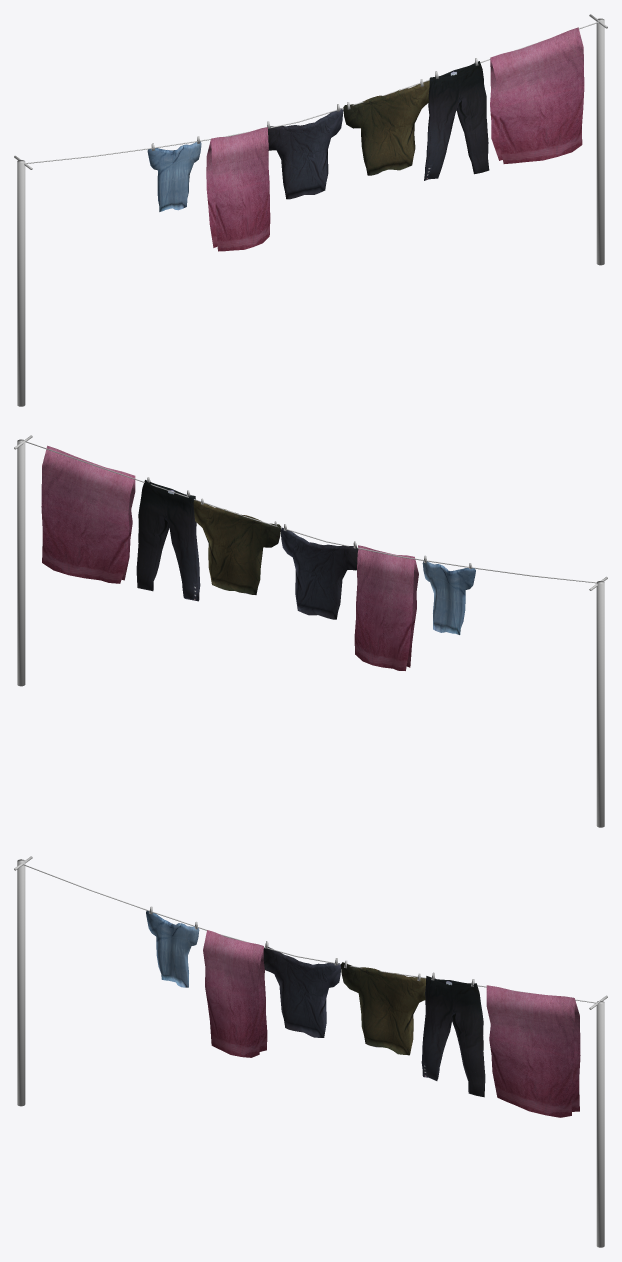
File: clothesline.obj
The picture shows the model from 3 angles, top to bottom: view 1: azimuth 30°, elevation 25°; view 2: azimuth 150°, elevation 25°; view 3: azimuth 330°, elevation 25°; orthographic projection.
Visible parts, largest first — view 1: clothesline; view 2: clothesline; view 3: clothesline.
Part boxes in pixels (<box>): clothesline: <box>14,14,607,406</box>; clothesline: <box>14,435,607,827</box>; clothesline: <box>14,856,607,1247</box>.
Size of the model in its own units: 211 by 83.88 by 10.31.
